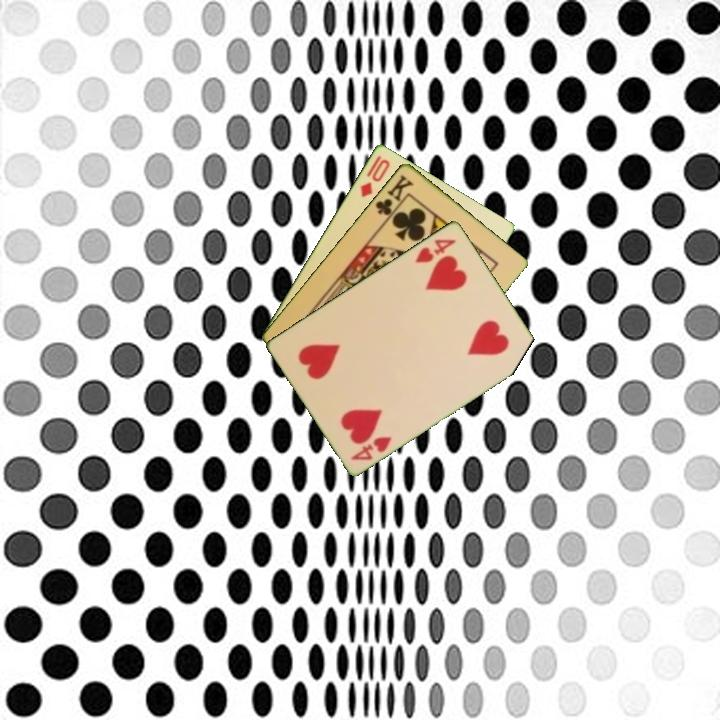10d: (357, 155, 393, 200)
4h: (411, 235, 459, 266), (347, 432, 395, 463)
Kc: (371, 171, 417, 223)
